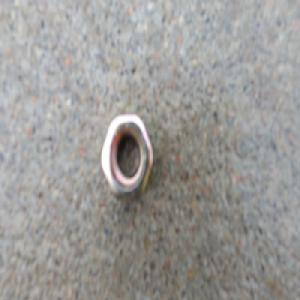Nut: (99, 115, 155, 206)
